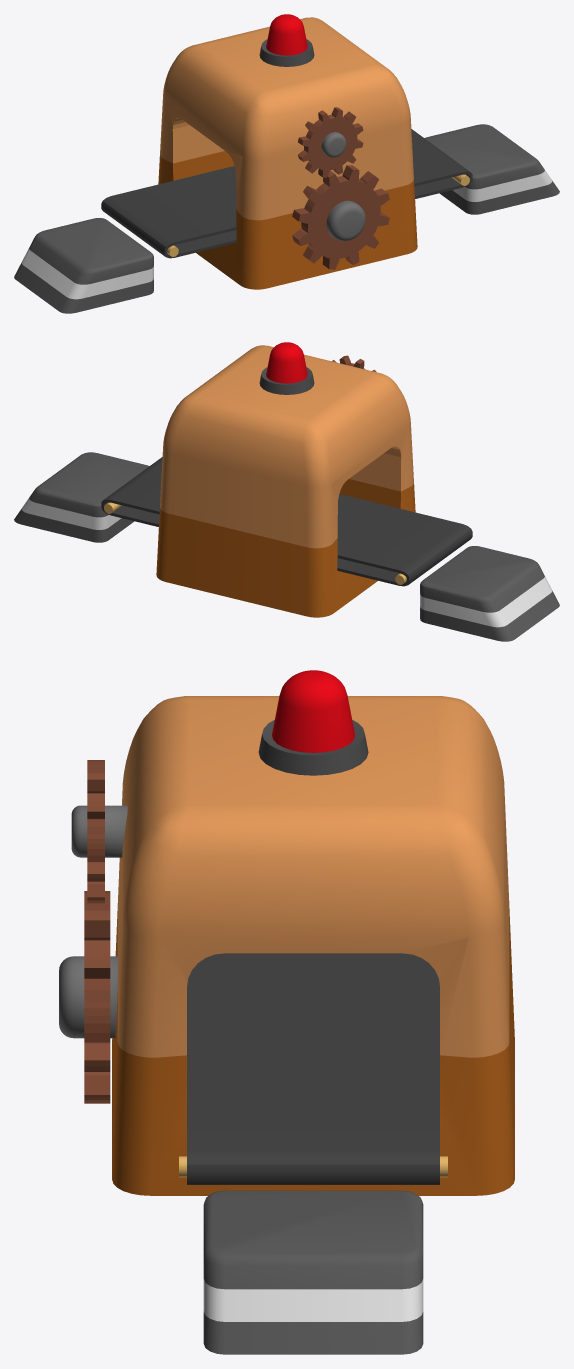
File: makina2.fbx
3 views of the same model, one above another, from view 1: azimuth 30°, elevation 25°; view 2: azimuth 150°, elevation 25°; view 3: azimuth 270°, elevation 25° (orthographic). The views are drawn at different scales.
Parts seen in each view (by area): view 1: govde.003, stack.002, palet.002, cark2, cark1, lamba; view 2: govde.003, stack.002, palet.002, lamba; view 3: govde.003, palet.002, stack.002, lamba, cark2, cark1.
Part boxes in pixels (<box>): govde.003: <box>158,17,417,289</box>; stack.002: <box>14,124,559,313</box>; palet.002: <box>101,129,472,258</box>; cark2: <box>292,165,389,269</box>; cark1: <box>298,107,363,177</box>; lamba: <box>259,14,314,66</box>; govde.003: <box>156,345,415,617</box>; stack.002: <box>14,452,559,641</box>; palet.002: <box>101,457,472,586</box>; lamba: <box>259,342,314,394</box>; govde.003: <box>112,696,514,1195</box>; palet.002: <box>179,953,447,1184</box>; stack.002: <box>203,1190,423,1354</box>; lamba: <box>258,670,368,775</box>; cark2: <box>59,891,118,1103</box>; cark1: <box>71,760,127,903</box>.
Size of the model in its own units: 611 by 254 by 242.
